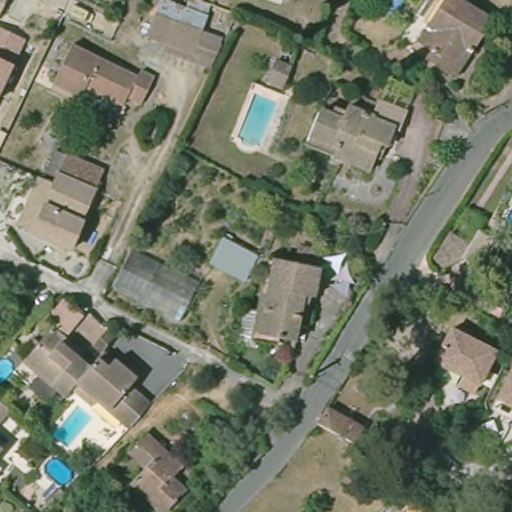pool: (237, 89, 285, 150), (53, 404, 95, 445), (41, 453, 84, 487), (1, 355, 23, 384)
